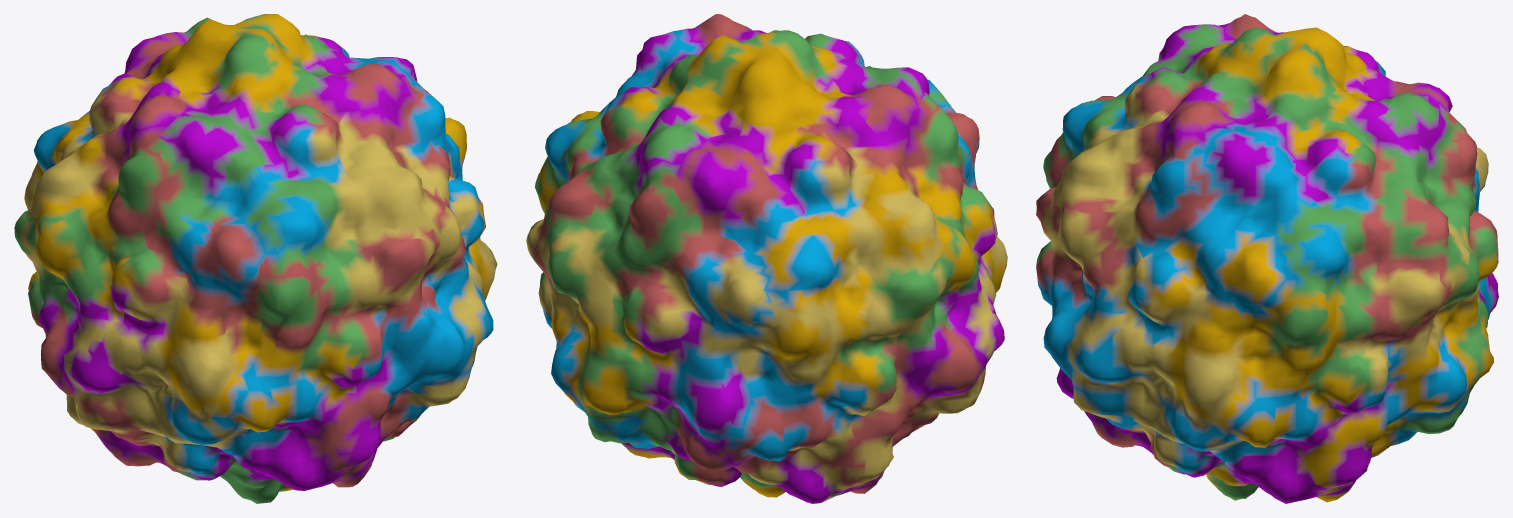
Rendered from nih-porcine-parvovirus-capsid.glb.
3 renders of one model, left to right at view 1: azimuth 30°, elevation 25°; view 2: azimuth 150°, elevation 25°; view 3: azimuth 270°, elevation 25°, orthographic.
Visible parts, largest first — view 1: Surface #1; view 2: Surface #1; view 3: Surface #1.
Boxes of the visible parts, x1,y1,x2,y2 form: Surface #1: (14, 14, 497, 503); Surface #1: (526, 14, 1007, 503); Surface #1: (1036, 14, 1498, 503).
Bounding box in the file's own units: 286 × 293 × 272.
